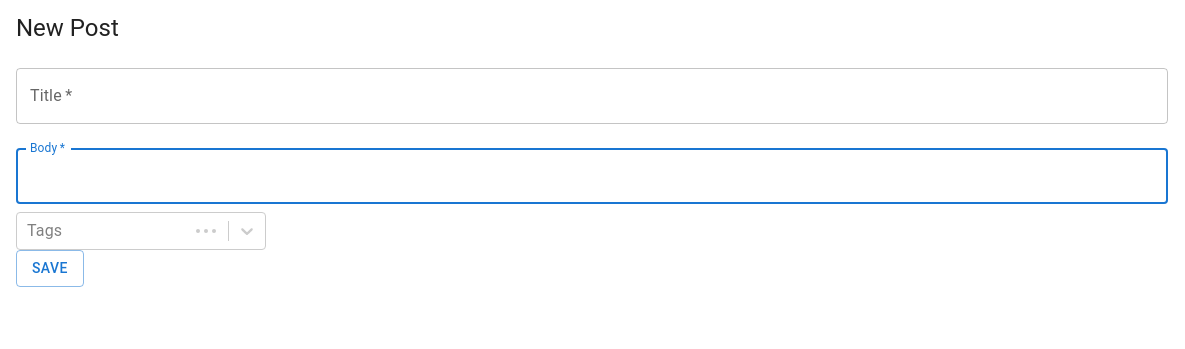
Scenario: NewPostPage › should show validation errors
The image size is (1185, 349).
Click the button "Save". click: (50, 268)
box: [16,250,84,286]
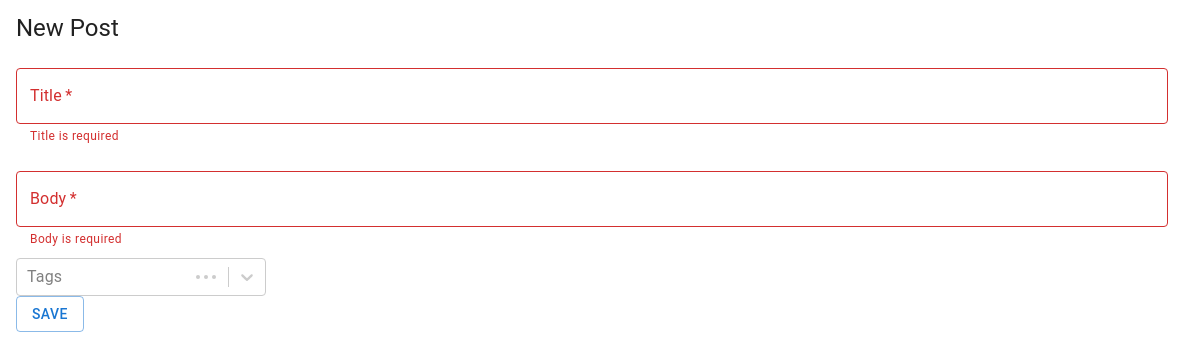
Result: the text "Title is required" is shown at [30,129,119,143]
Result: the text "Body is required" is shown at [30,232,122,246]
